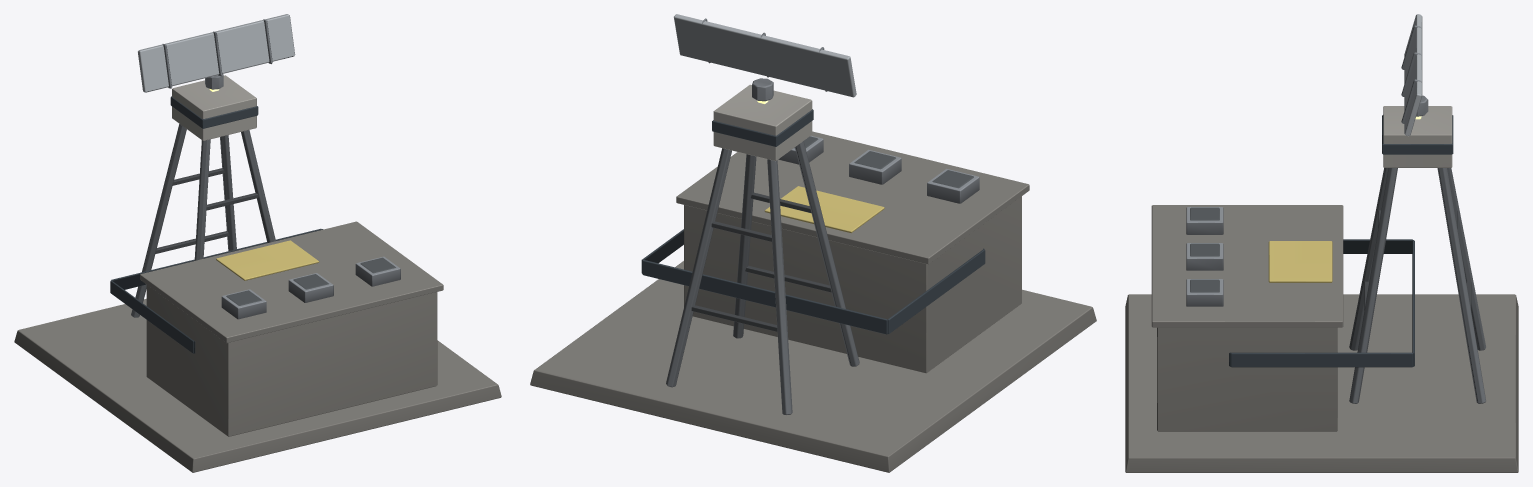
The model's file is radar_center.glb.
3 renders of one model, left to right at view 1: azimuth 30°, elevation 25°; view 2: azimuth 150°, elevation 25°; view 3: azimuth 270°, elevation 25°, orthographic. The views are drawn at different scales.
Visible parts, largest first — view 1: Body, Radar; view 2: Body, Radar; view 3: Body, Radar.
Boxes of the visible parts, left/top/right/bottom form: Body: left=14, top=75, right=501, bottom=472; Radar: left=138, top=14, right=295, bottom=92; Body: left=530, top=84, right=1096, bottom=472; Radar: left=673, top=14, right=856, bottom=101; Body: left=1125, top=106, right=1518, bottom=472; Radar: left=1401, top=14, right=1428, bottom=136.
Bounding box in the file's own units: 7.39 × 7.01 × 7.39.
